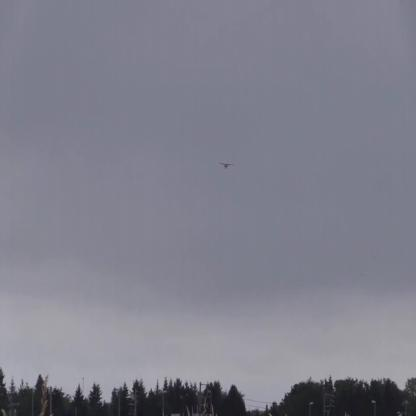CIV_Plane: (218, 162, 234, 170)
